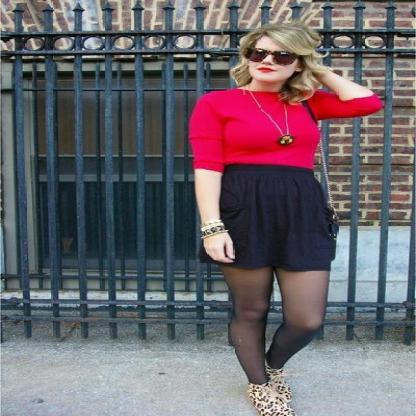shirt: (189, 89, 382, 172)
shoe: (248, 382, 288, 416)
shorts: (219, 163, 337, 276)
sunglass: (243, 42, 309, 74)
